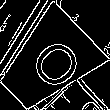O_SW: (15, 30, 80, 96)
